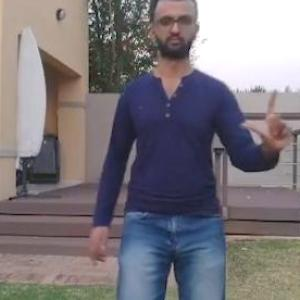land_hand: (238, 85, 296, 152)
